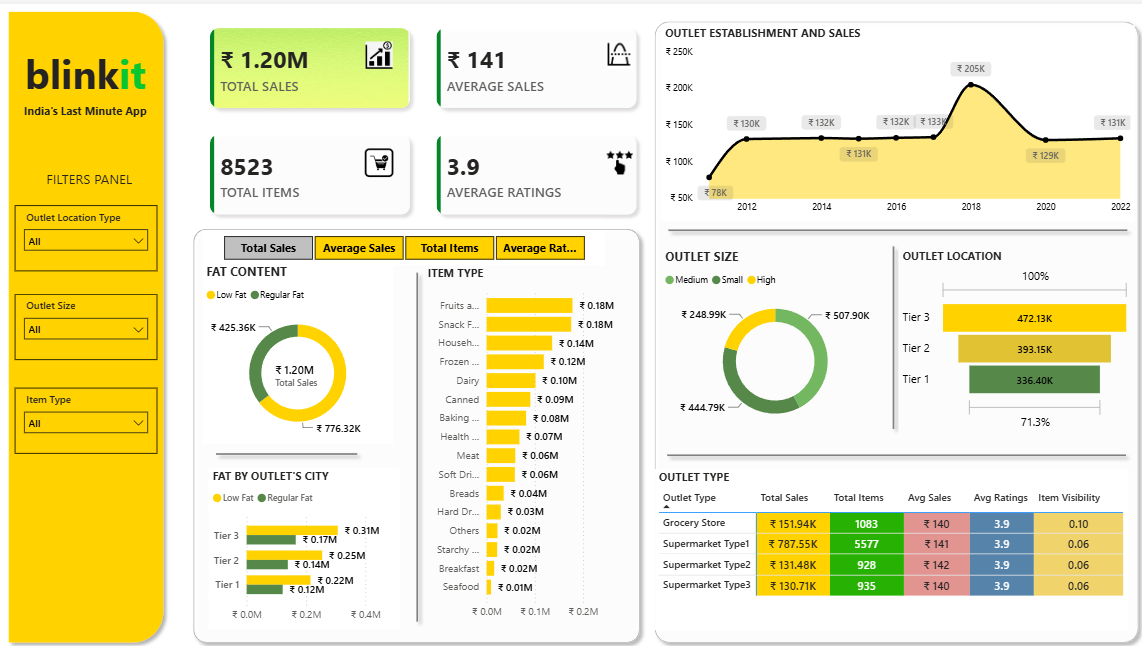

What the dashboard file says about the page in this screenshot:
{"tool":"powerbi","page":{"name":"Page 1","canvas":[1400,800],"ordinal":0},"visuals":[{"type":"shape","box":[12,0,204.1,775.9],"z":0},{"type":"textbox","box":[22.5,45,181.6,85.5],"z":1000},{"type":"textbox","box":[34.5,114.1,159.1,33],"z":2000},{"type":"cardVisual","fields":{"Data":["BlinkIT Grocery Data.Total Sales","BlinkIT Grocery Data.Average Sales","BlinkIT Grocery Data.Total Items","BlinkIT Grocery Data.Average Ratings"]},"box":[234.1,0,570.3,282.2],"z":3000},{"type":"image","box":[448.8,45,34.5,33],"z":4000},{"type":"image","box":[736.9,45,36,33],"z":5000},{"type":"image","box":[736.9,172.6,36,36],"z":6000},{"type":"image","box":[448.8,172.6,34.5,36],"z":7000},{"type":"shape","box":[234.1,261.2,553.8,514.8],"z":8000},{"type":"donutChart","title":"FAT CONTENT","fields":{"Y":["BlinkIT Grocery Data.Total Sales"],"Category":["BlinkIT Grocery Data.Item Fat Content"]},"box":[253.6,310.7,229.6,217.6],"z":9000},{"type":"slicer","fields":{"Values":["Metrics.Metrics"]},"box":[253.6,271.7,483.3,42],"z":10000},{"type":"cardVisual","fields":{"Data":["BlinkIT Grocery Data.Total Sales"]},"box":[312.2,412.7,114.1,66],"z":11000},{"type":"clusteredBarChart","title":"FAT BY OUTLET''S CITY","fields":{"Category":["BlinkIT Grocery Data.Outlet Location Type"],"Y":["BlinkIT Grocery Data.Total Sales"],"Series":["BlinkIT Grocery Data.Item Fat Content"]},"box":[261.2,556.8,229.6,193.6],"z":11001},{"type":"shape","box":[261.2,523.8,187.6,33],"z":11002},{"type":"shape","box":[502.8,313.7,16.5,436.8],"z":11003},{"type":"barChart","title":"ITEM TYPE","fields":{"Category":["BlinkIT Grocery Data.Item Type"],"Y":["BlinkIT Grocery Data.Total Sales"]},"box":[519.3,313.7,253.6,433.7],"z":11004},{"type":"shape","box":[788,12,598.8,763.9],"z":11005},{"type":"lineChart","title":"OUTLET ESTABLISHMENT AND SALES","fields":{"Category":["BlinkIT Grocery Data.Outlet Establishment Year"],"Y":["BlinkIT Grocery Data.Total Sales"]},"box":[804.5,25.5,568.8,235.6],"z":11006},{"type":"shape","box":[804.5,261.2,568.8,21],"z":11007},{"type":"donutChart","title":"OUTLET SIZE","fields":{"Y":["BlinkIT Grocery Data.Total Sales"],"Category":["BlinkIT Grocery Data.Outlet Size"]},"box":[804.5,292.7,274.7,225.1],"z":11008},{"type":"shape","box":[1074.6,282.2,15,237.1],"z":11009},{"type":"funnel","title":"OUTLET LOCATION","fields":{"Category":["BlinkIT Grocery Data.Outlet Location Type"],"Y":["Sum(BlinkIT Grocery Data.Sales)"]},"box":[1089.6,292.7,283.7,225.1],"z":11010},{"type":"shape","box":[803,531.3,568.8,21],"z":11011},{"type":"pivotTable","title":"OUTLET TYPE","fields":{"Rows":["BlinkIT Grocery Data.Outlet Type"],"Values":["BlinkIT Grocery Data.Total Sales","BlinkIT Grocery Data.Total Items","BlinkIT Grocery Data.Average Sales","BlinkIT Grocery Data.Average Ratings","Avg(BlinkIT Grocery Data.Item Visibility)"]},"box":[797,558.3,568.8,193.6],"z":11012},{"type":"slicer","fields":{"Values":["BlinkIT Grocery Data.Outlet Location Type"]},"box":[28.5,241.6,171.1,79.5],"z":11013},{"type":"slicer","fields":{"Values":["BlinkIT Grocery Data.Outlet Size"]},"box":[28.5,348.2,171.1,79.5],"z":11014},{"type":"slicer","fields":{"Values":["BlinkIT Grocery Data.Item Type"]},"box":[28.5,460.8,171.1,79.5],"z":11015},{"type":"textbox","box":[61.5,193.6,117.1,34.5],"z":11016}]}

Visuals, with their boxes in screenshot pixels (x1, y1, x2, y2), scaled from the page's 1400x800 canvas onto the 1142x646 screenshot:
shape: locate(10, 0, 176, 627)
textbox: locate(18, 36, 166, 105)
textbox: locate(28, 92, 158, 119)
cardVisual - BlinkIT Grocery Data.Total Sales x BlinkIT Grocery Data.Average Sales: locate(191, 0, 656, 228)
image: locate(366, 36, 394, 63)
image: locate(601, 36, 630, 63)
image: locate(601, 139, 630, 168)
image: locate(366, 139, 394, 168)
shape: locate(191, 211, 643, 627)
"FAT CONTENT" donutChart: locate(207, 251, 394, 427)
slicer - Metrics.Metrics: locate(207, 219, 601, 253)
cardVisual - BlinkIT Grocery Data.Total Sales: locate(255, 333, 348, 387)
"FAT BY OUTLET''S CITY" clusteredBarChart: locate(213, 450, 400, 606)
shape: locate(213, 423, 366, 450)
shape: locate(410, 253, 424, 606)
"ITEM TYPE" barChart: locate(424, 253, 630, 604)
shape: locate(643, 10, 1131, 627)
"OUTLET ESTABLISHMENT AND SALES" lineChart: locate(656, 21, 1120, 211)
shape: locate(656, 211, 1120, 228)
"OUTLET SIZE" donutChart: locate(656, 236, 880, 418)
shape: locate(877, 228, 889, 419)
"OUTLET LOCATION" funnel: locate(889, 236, 1120, 418)
shape: locate(655, 429, 1119, 446)
"OUTLET TYPE" pivotTable: locate(650, 451, 1114, 607)
slicer - BlinkIT Grocery Data.Outlet Location Type: locate(23, 195, 163, 259)
slicer - BlinkIT Grocery Data.Outlet Size: locate(23, 281, 163, 345)
slicer - BlinkIT Grocery Data.Item Type: locate(23, 372, 163, 436)
textbox: locate(50, 156, 146, 184)
